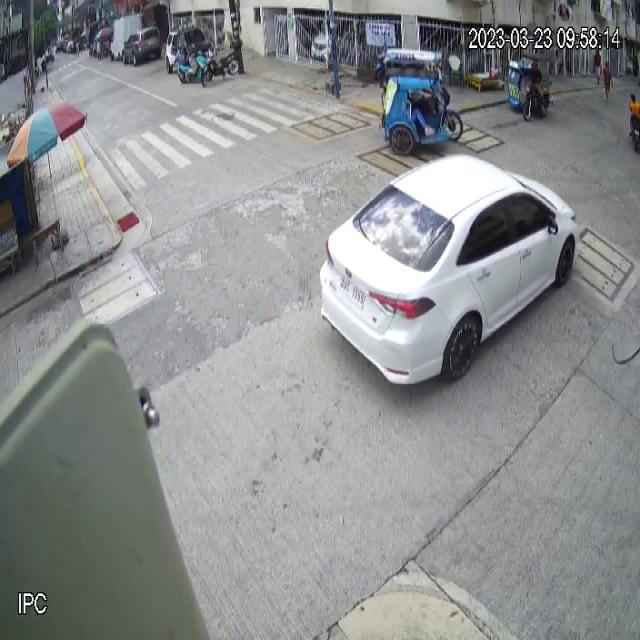Car: (320, 153, 576, 387)
Tricycle: (374, 45, 463, 151), (508, 54, 554, 124)
